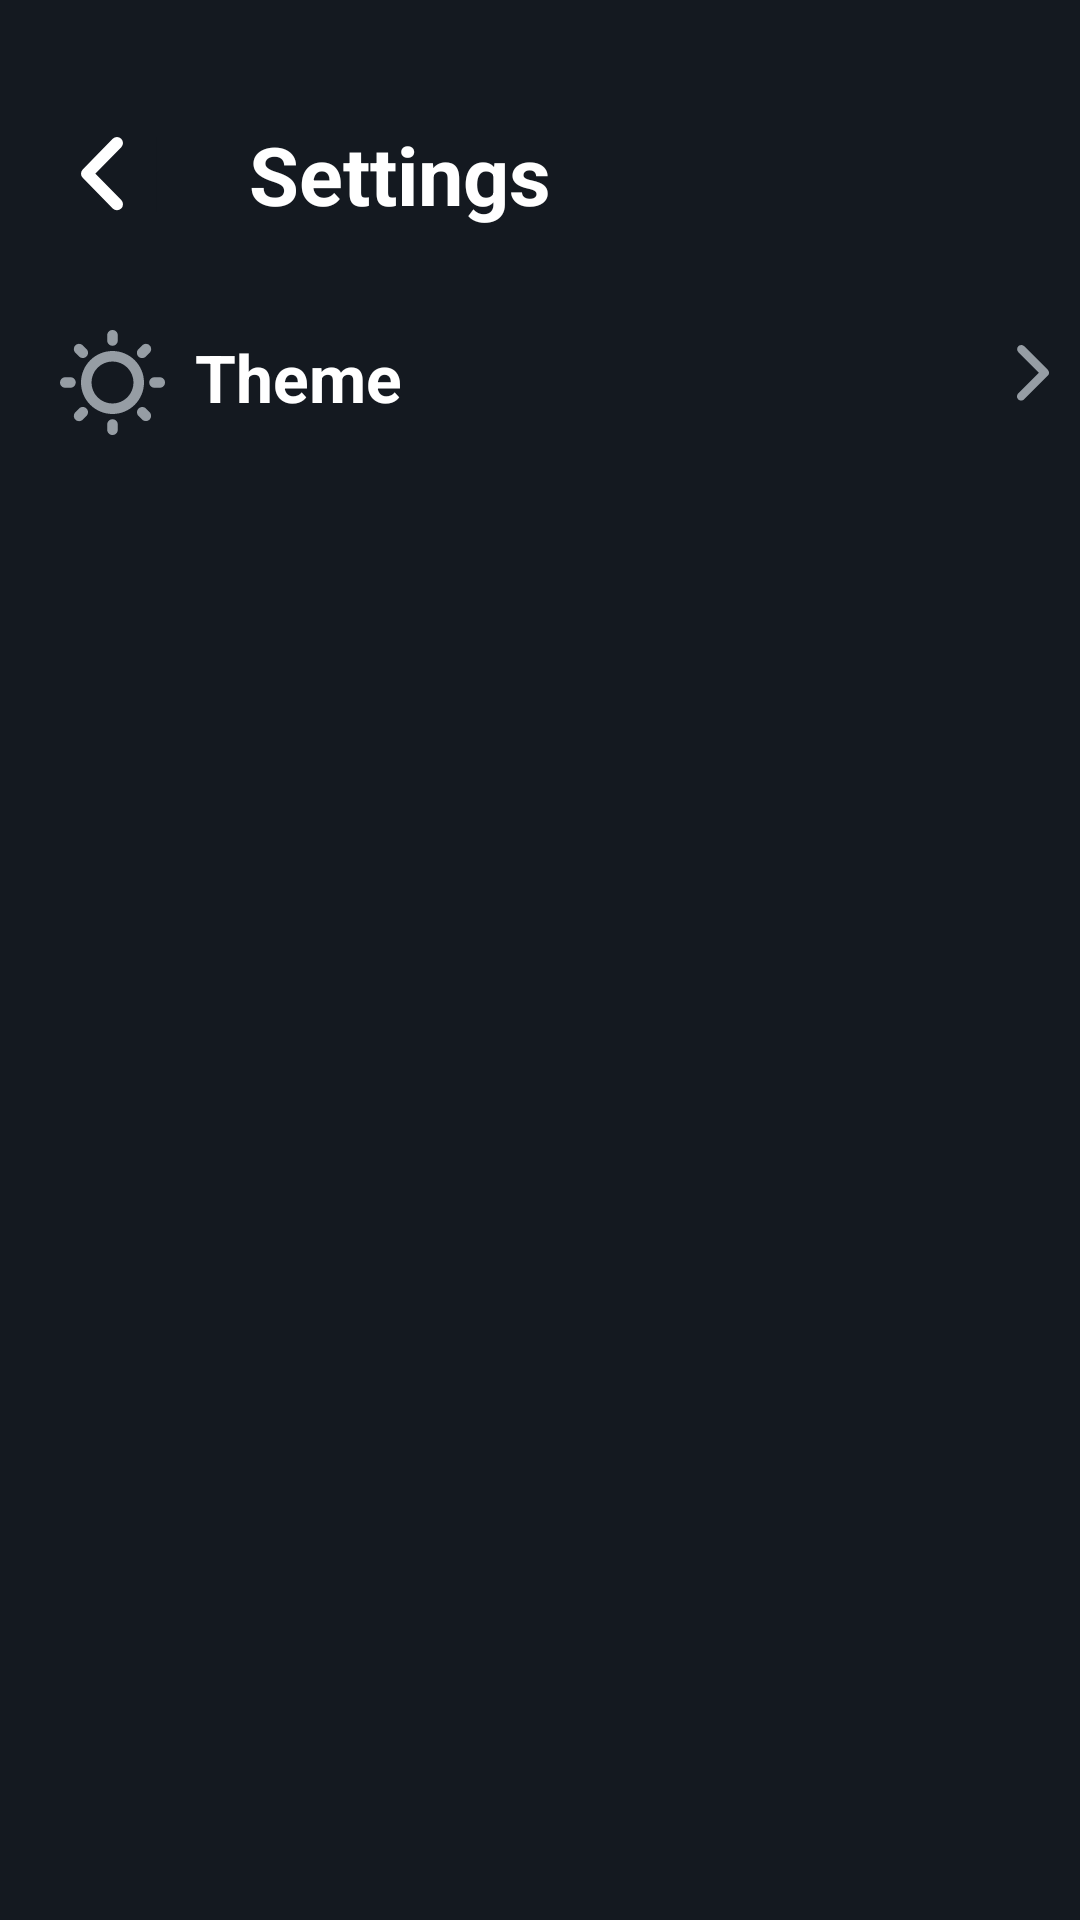

Point at icon controls on the screen. Image size 1080×1920, points as [x,y].
back: [102,174]
rightarow: [1033,373]
